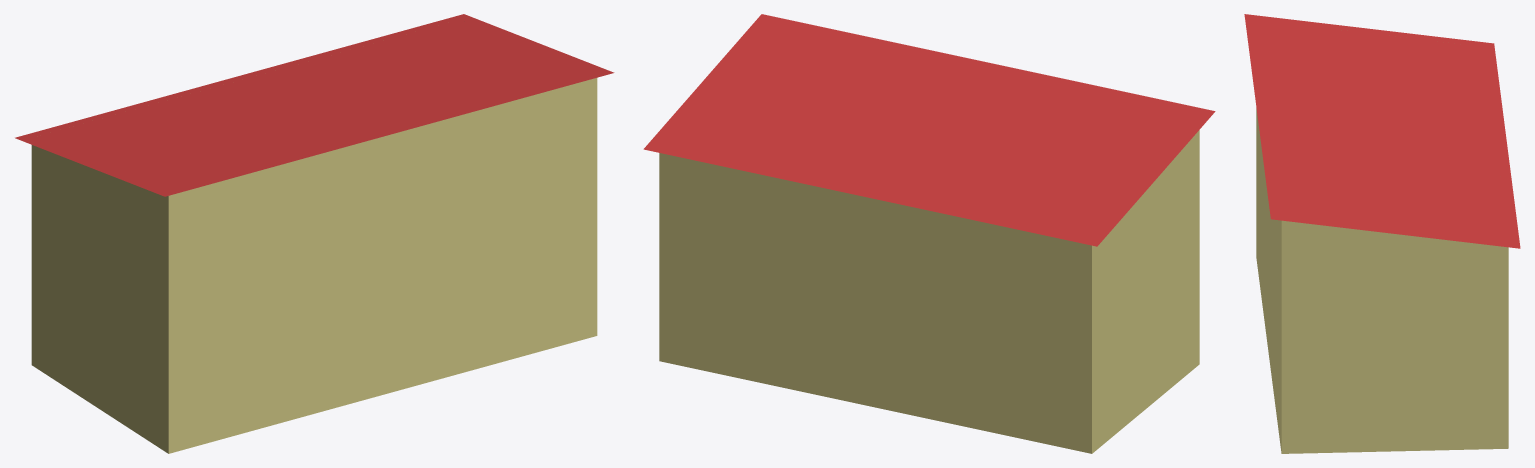
3 renders of one model, left to right at view 1: azimuth 30°, elevation 25°; view 2: azimuth 150°, elevation 25°; view 3: azimuth 270°, elevation 25°, orthographic. The views are drawn at different scales.
Size of the model in its own units: 10.98 by 6.07 by 5.82.
